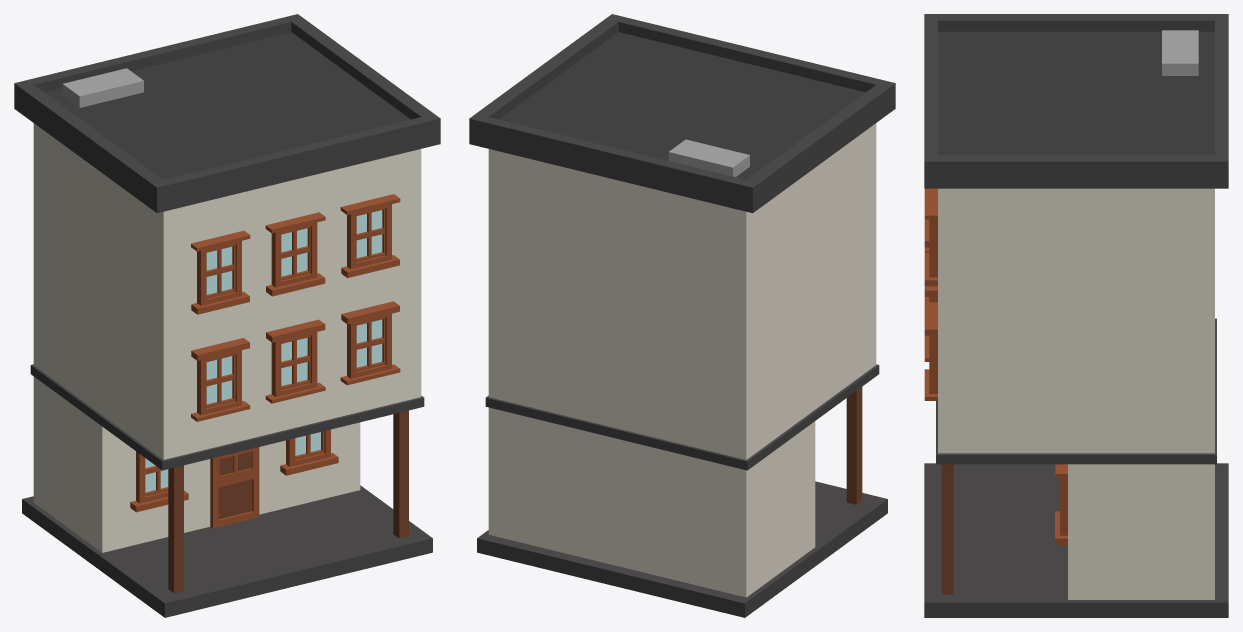
File: Flat2.glb
3 views of the same model, side by side, from view 1: azimuth 30°, elevation 25°; view 2: azimuth 150°, elevation 25°; view 3: azimuth 270°, elevation 25° (orthographic). The views are drawn at different scales.
Parts seen in each view (by area): view 1: Flat2; view 2: Flat2; view 3: Flat2.
Part boxes in pixels (x1,y1,x2,y2): Flat2: [14, 14, 440, 617]; Flat2: [469, 14, 895, 617]; Flat2: [924, 14, 1228, 617].
Size of the model in its own units: 2.17 by 3.17 by 1.89.
